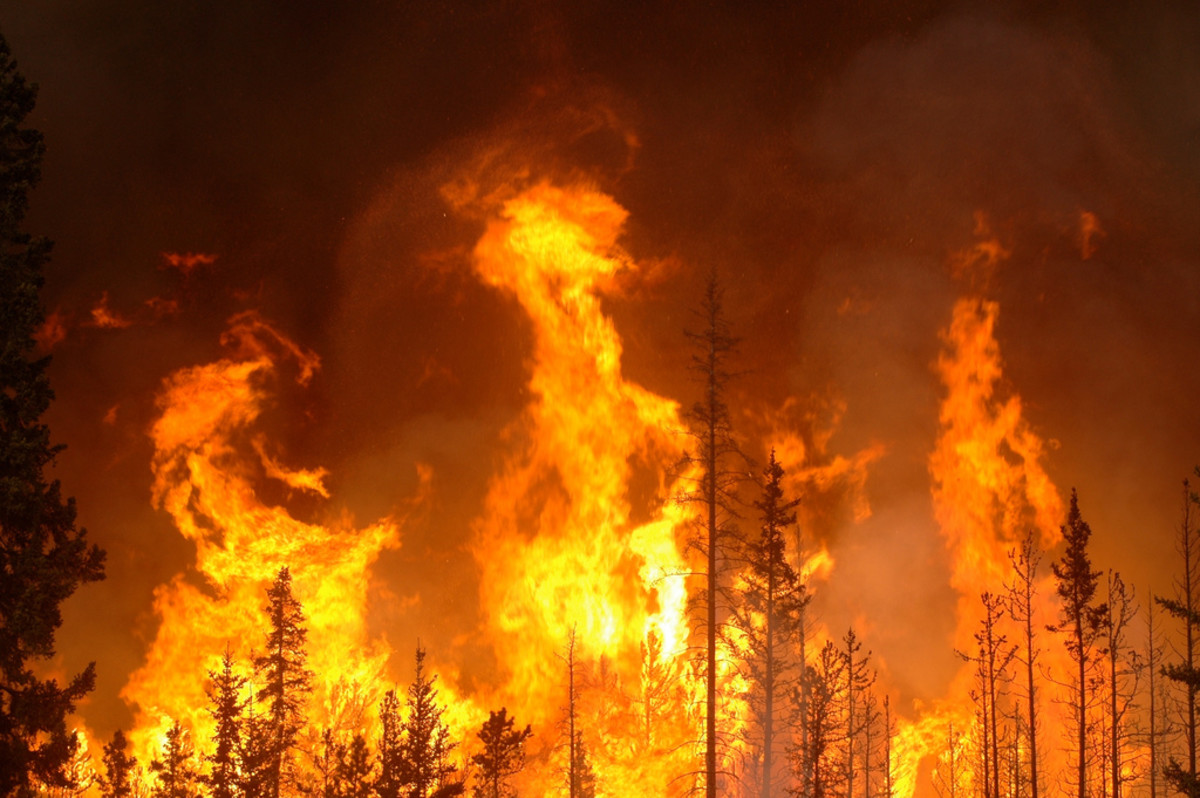fire: (450, 130, 783, 798), (125, 320, 457, 798), (931, 236, 1140, 798), (14, 190, 316, 401)
